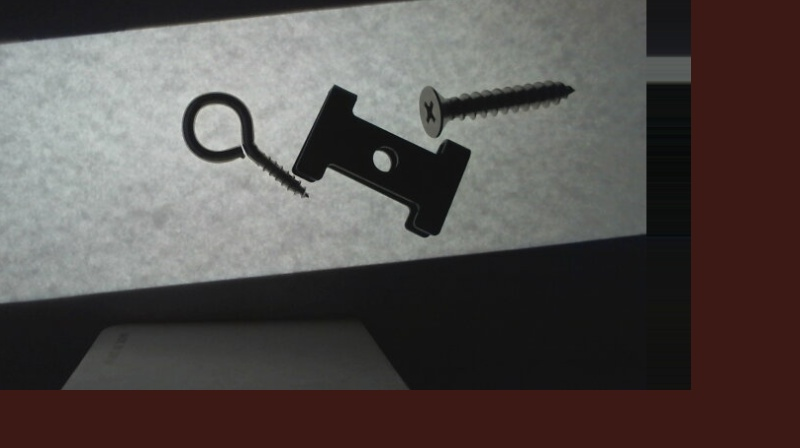O001: (177, 89, 311, 201)
O002: (292, 85, 469, 240)
S001: (416, 77, 575, 139)
